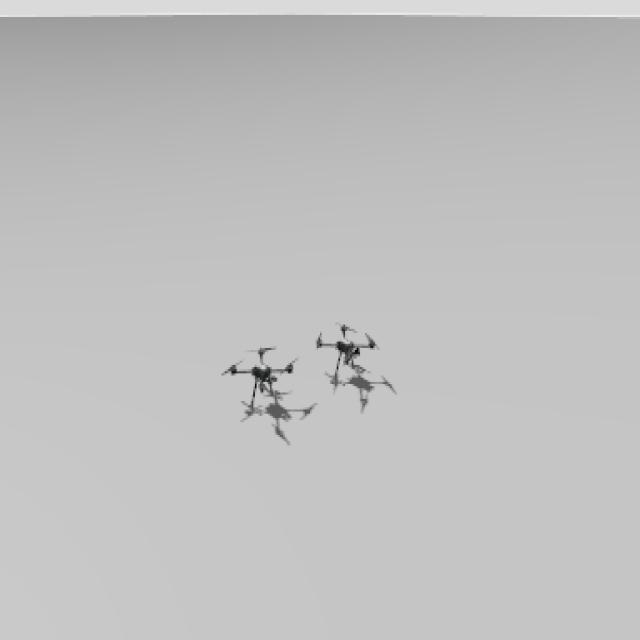drone: (218, 339, 302, 416), (312, 322, 379, 390)
